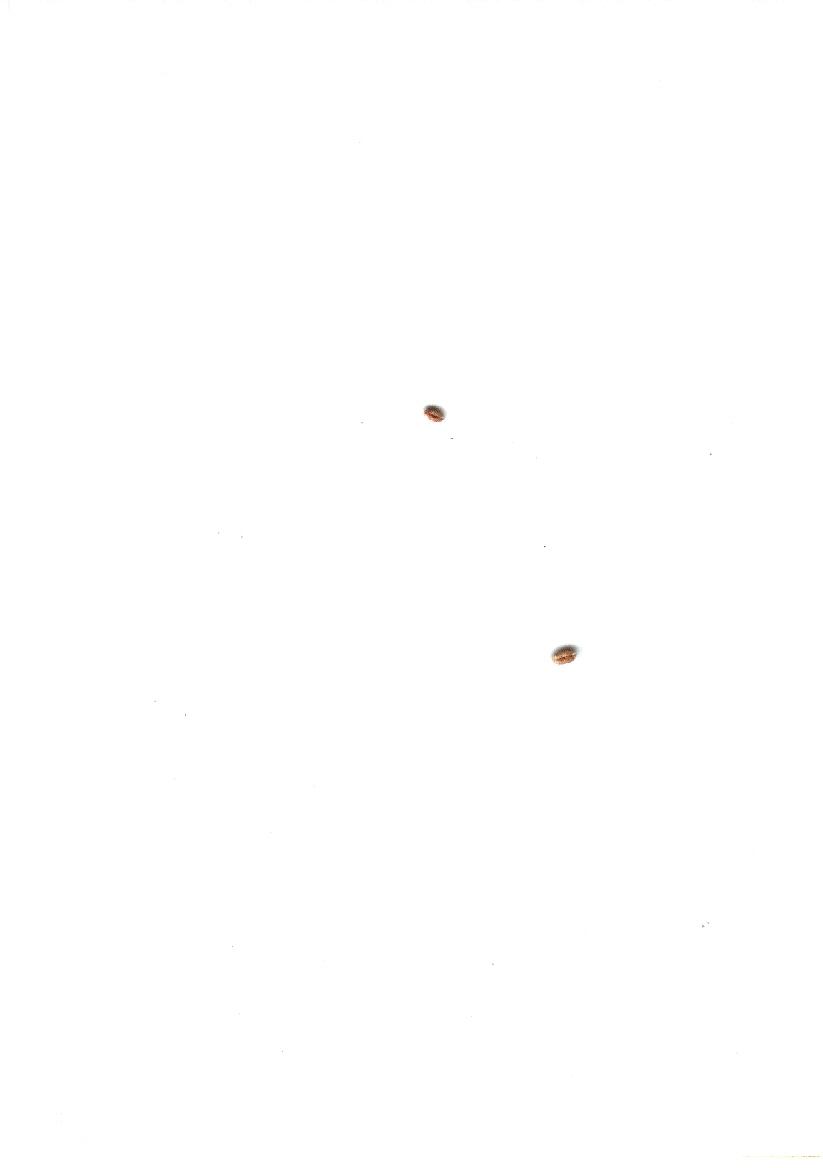grains: (410, 390, 455, 440), (542, 634, 588, 682)
